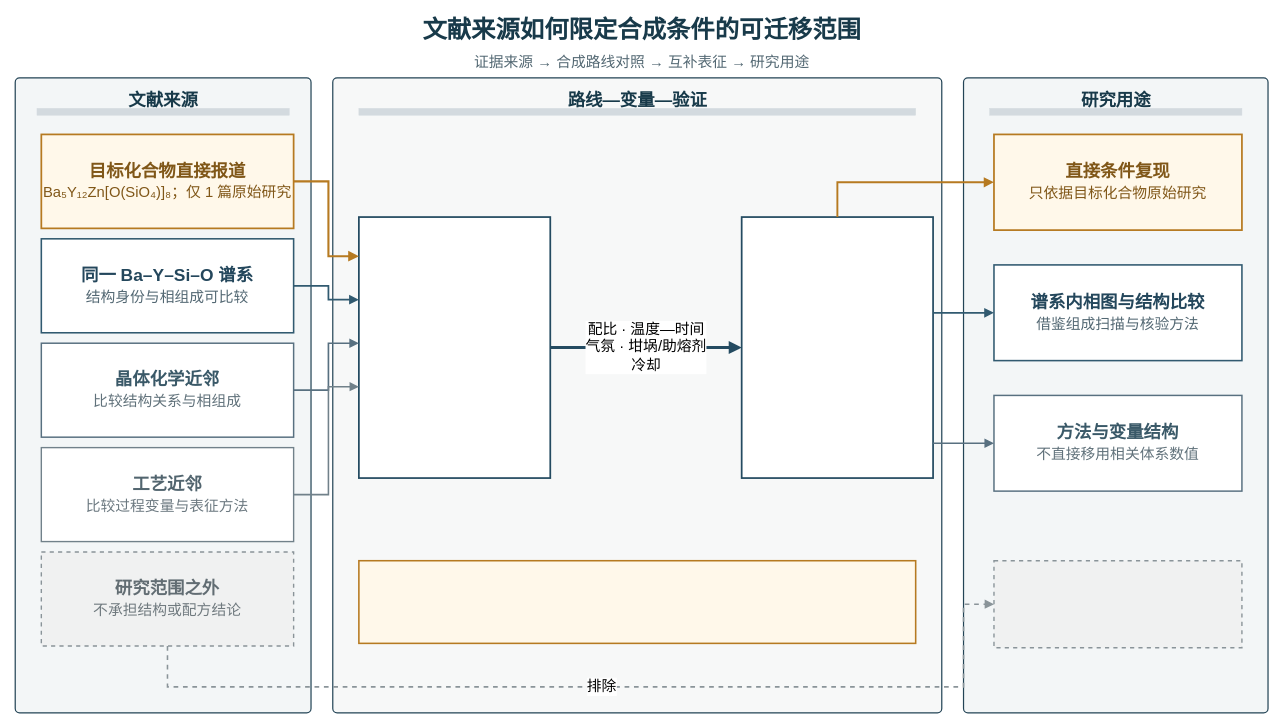
This 1284x728 diagram has some shape labels left out. Each missing label, with the centre of its shape:
互补表征 单晶/先进衍射 PXRD/Rietveld 成分与污染 高温稳定性: point (837, 347)
合成路线对照 外加助熔｜自熔/熔体 固相陶瓷｜机械化学 Czochralski: point (454, 347)
排除出条件比较 仅说明研究边界: point (1117, 604)
近邻条件 ≠ 目标相已验证配方 具体数值不得无条件迁移: point (637, 601)
